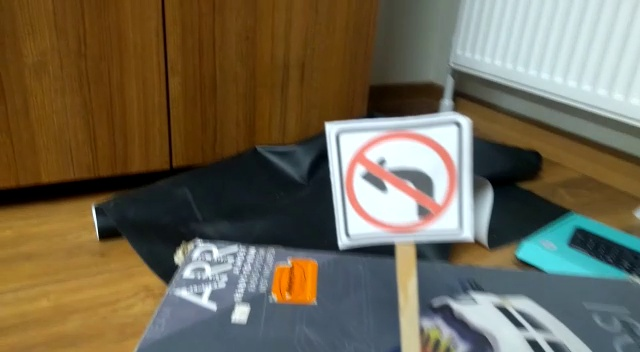sola_donulmez: (337, 122, 461, 238)
